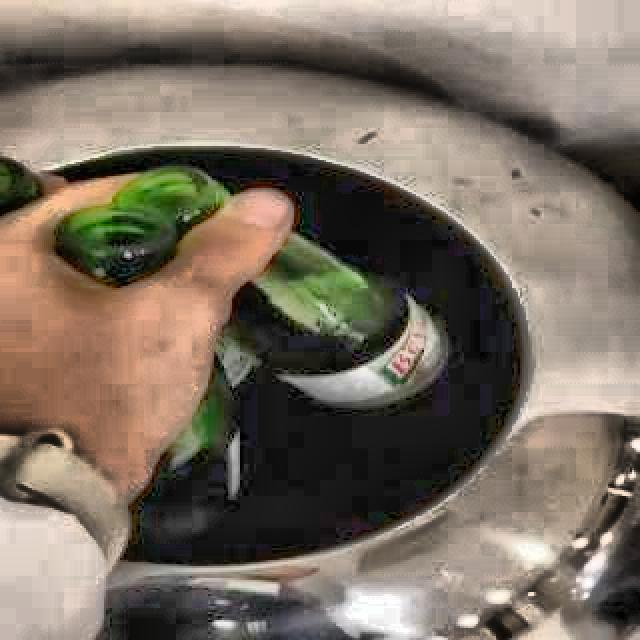glass: (131, 235, 448, 541), (53, 167, 229, 287), (0, 157, 43, 218)
